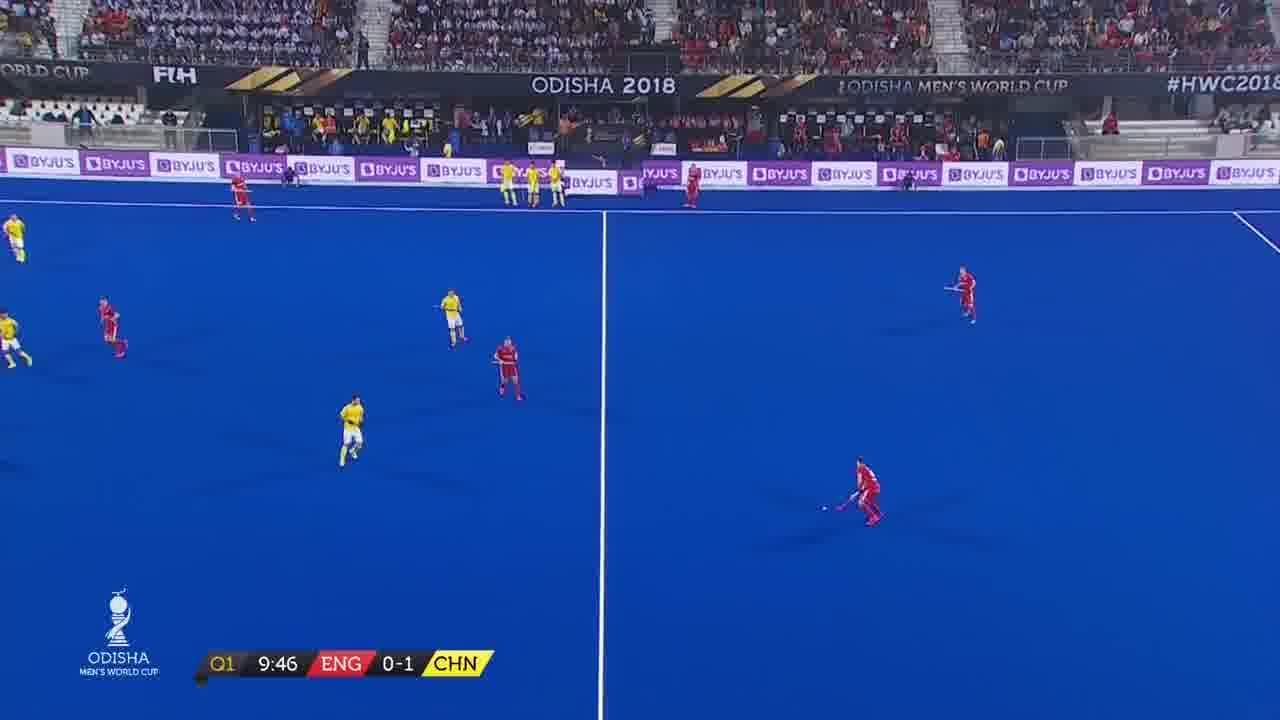ball: (818, 500, 832, 518)
